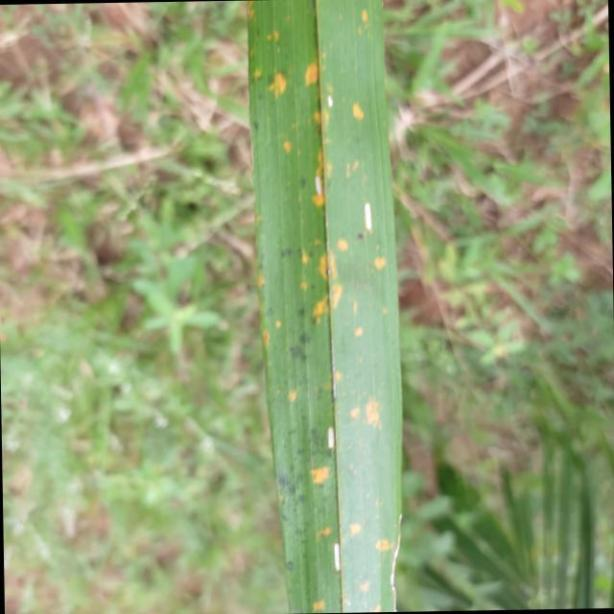Kalium: (243, 0, 405, 614)
